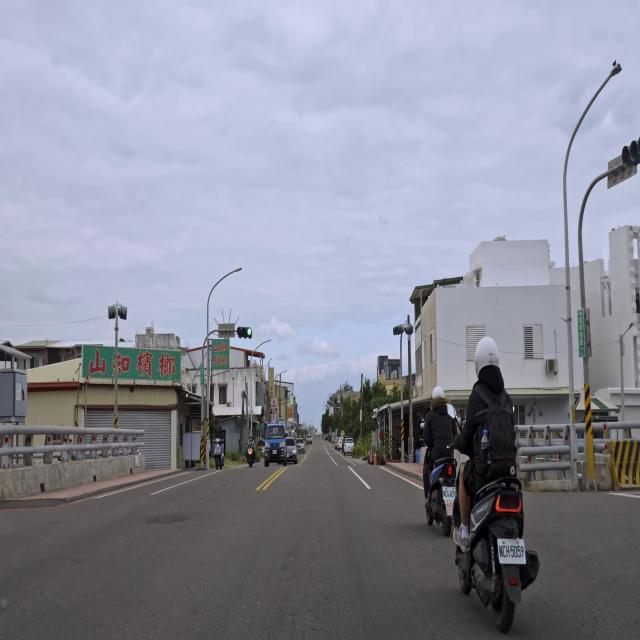green light: (236, 326, 253, 340)
